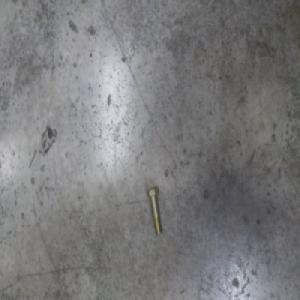Bolt: (147, 184, 163, 235)
